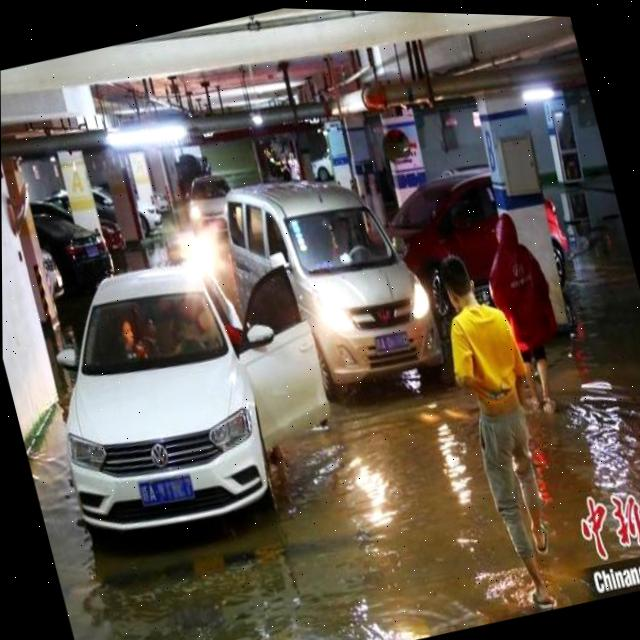civilian: (423, 236, 585, 615)
